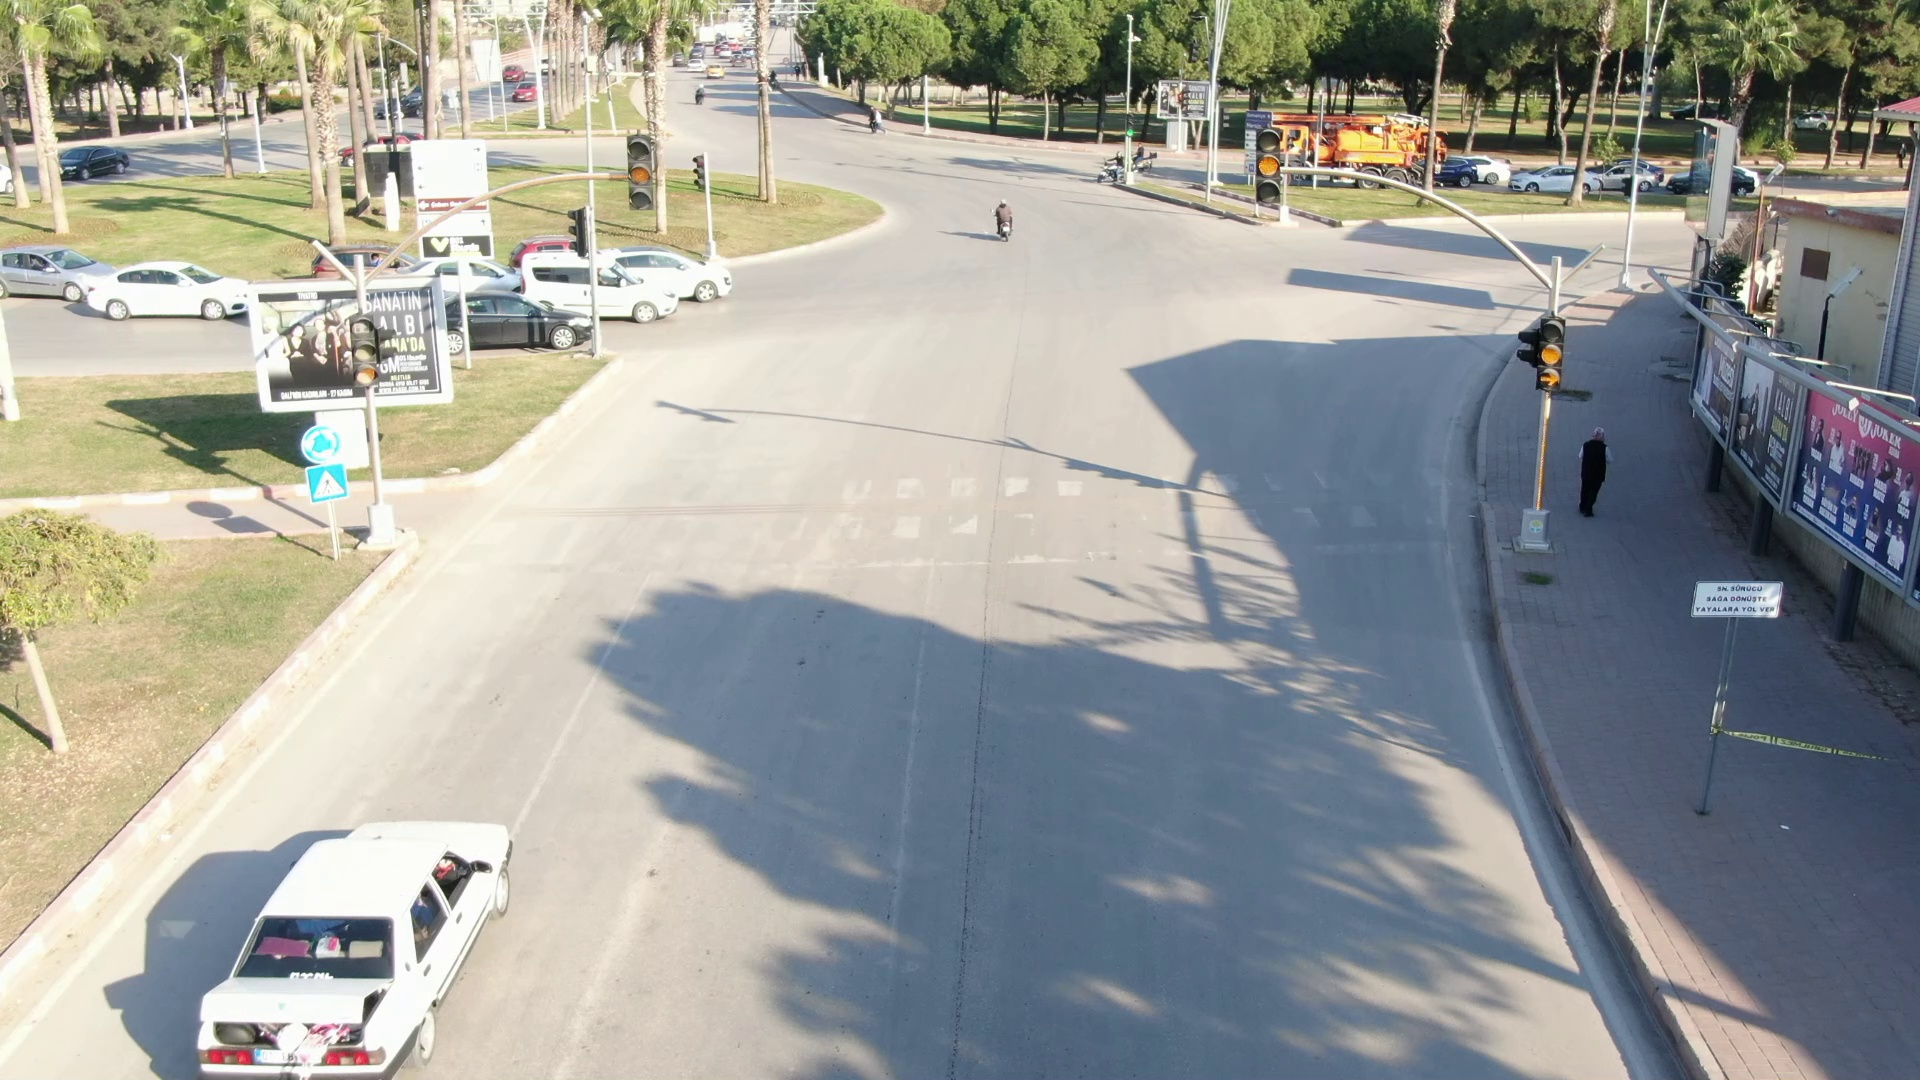car: (171, 792, 504, 1080), (519, 231, 690, 317), (84, 261, 255, 317)
person: (1570, 419, 1627, 527), (984, 196, 1039, 253)
